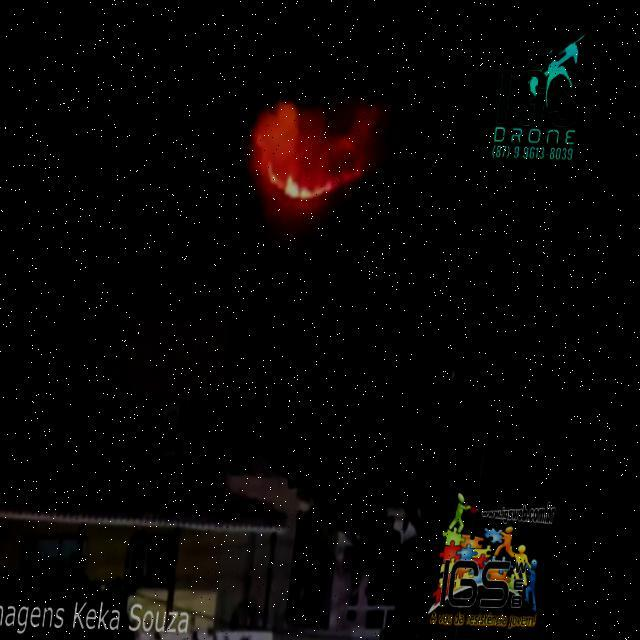Fire: (269, 160, 363, 200)
